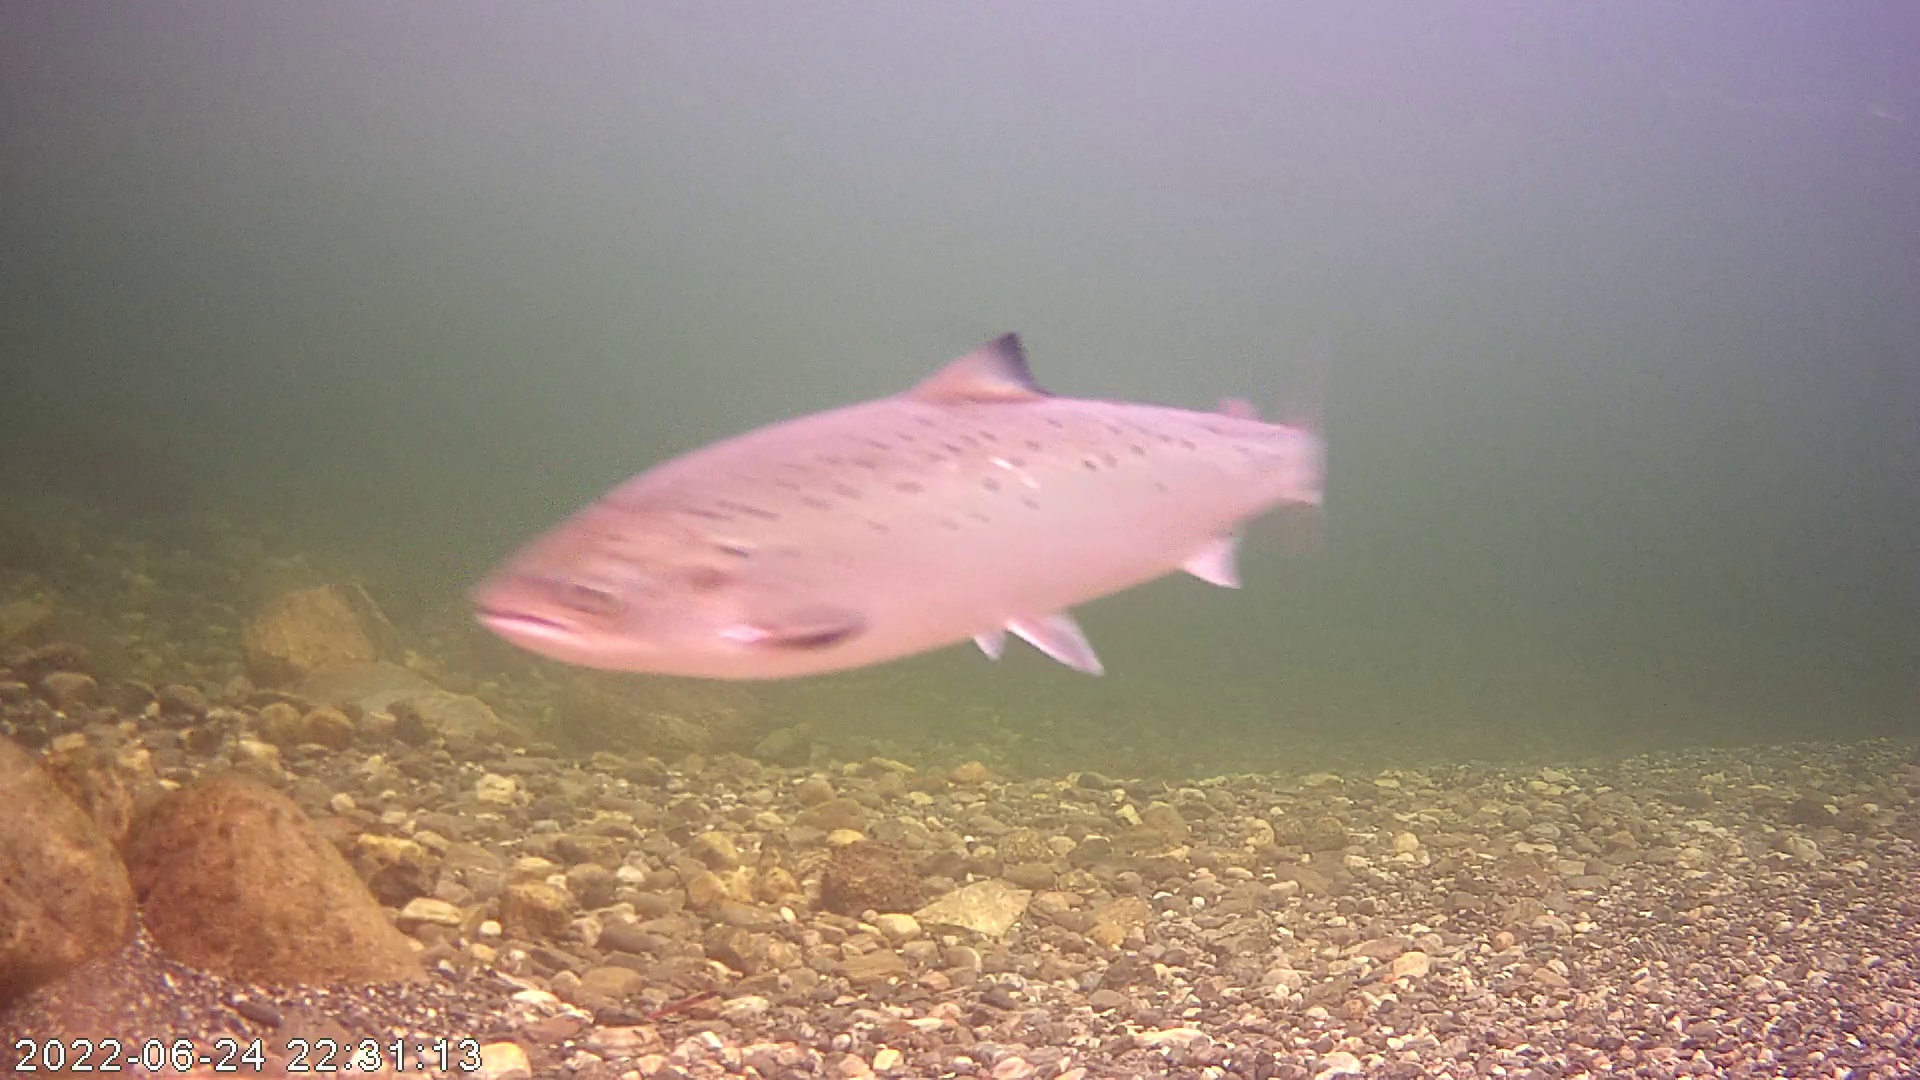salmon: (465, 330, 1337, 683)
